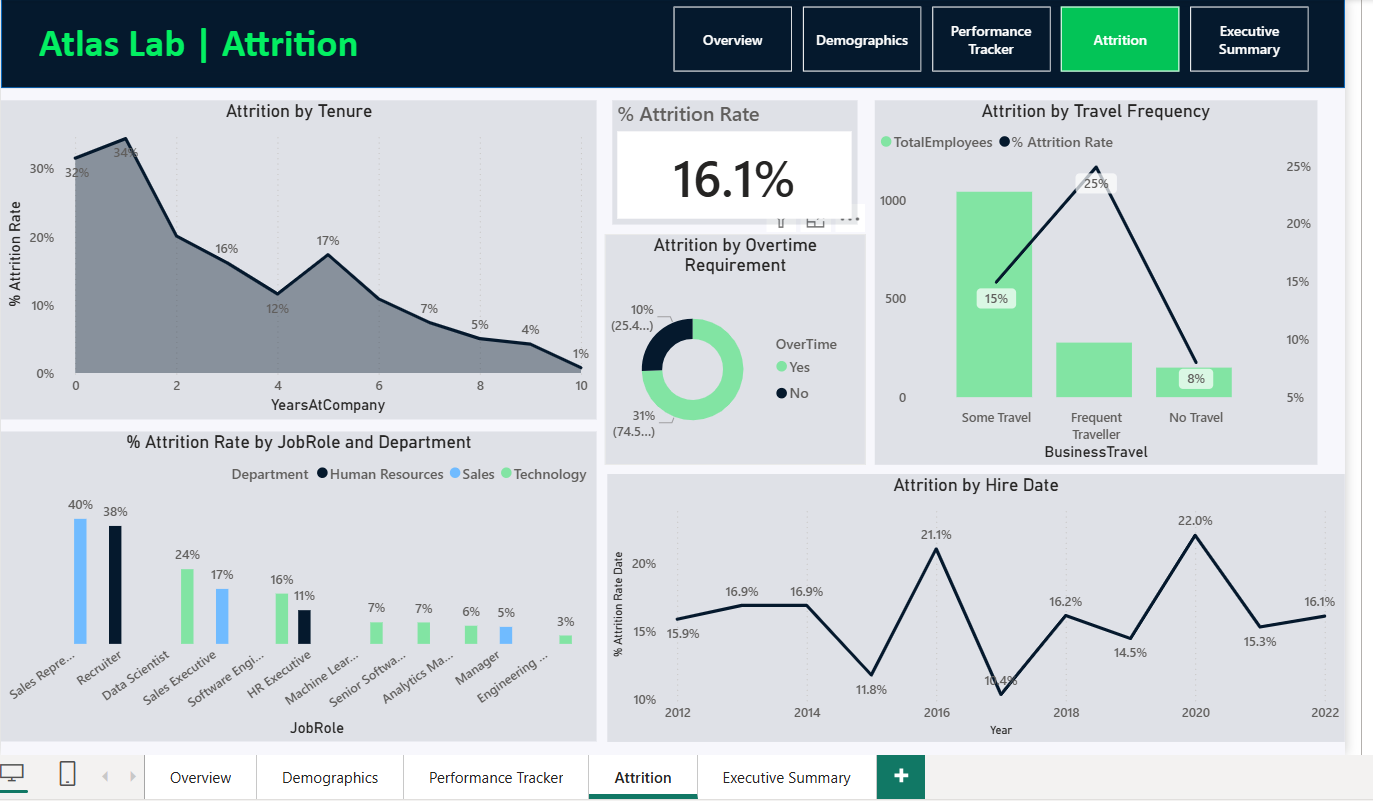

Layout of this report page (visuals, bound fields, positions):
{"tool":"powerbi","page":{"name":"Attrition","canvas":[1280,720],"ordinal":3},"visuals":[{"type":"clusteredColumnChart","fields":{"Category":["Dim_Employee.JobRole"],"Y":["_Measures.% Attrition Rate"],"Series":["Dim_Employee.Department"]},"box":[0,412.5,567.5,295],"z":0},{"type":"lineChart","title":"Attrition by Hire Date","fields":{"Category":["DimDate.Year"],"Y":["_Measures.% Attrition Rate Date"]},"box":[577.5,452.5,702.5,255],"z":1000},{"type":"lineClusteredColumnComboChart","title":"Attrition by Travel Frequency","fields":{"Category":["Dim_Employee.BusinessTravel"],"Y2":["_Measures.% Attrition Rate"],"Y":["_Measures.TotalEmployees"]},"box":[832.5,96.2,421.2,347.5],"z":2000},{"type":"donutChart","title":"Attrition by Overtime Requirement","fields":{"Y":["_Measures.% Attrition Rate"],"Category":["Dim_Employee.OverTime"]},"box":[575,223.8,248.8,220],"z":3000},{"type":"areaChart","title":"Attrition by Tenure","fields":{"Category":["Dim_Employee.YearsAtCompany"],"Y":["_Measures.% Attrition Rate"]},"box":[0,96.2,567.5,303.8],"z":4000},{"type":"shape","box":[0,0,1280,85],"z":5000},{"type":"textbox","box":[31.2,13.8,340,56.2],"z":6000},{"type":"cardVisual","title":"% Attrition Rate","fields":{"Data":["_Measures.% Attrition Rate"]},"box":[582.5,96.2,233.8,118.8],"z":7000},{"type":"pageNavigator","box":[640,7.5,606.2,62.5],"z":8000}]}

Visuals, with their boxes on the page's 1280x720 design canvas (x1, y1, x2, y2). These are canvas units, not pixel positions in the 1373x801 screenshot, which may show the page scaled, cropped or inside an application window:
clusteredColumnChart - Dim_Employee.JobRole x _Measures.% Attrition Rate: select_region(0, 412, 568, 708)
"Attrition by Hire Date" lineChart: select_region(578, 452, 1280, 708)
"Attrition by Travel Frequency" lineClusteredColumnComboChart: select_region(832, 96, 1254, 444)
"Attrition by Overtime Requirement" donutChart: select_region(575, 224, 824, 444)
"Attrition by Tenure" areaChart: select_region(0, 96, 568, 400)
shape: select_region(0, 0, 1280, 85)
textbox: select_region(31, 14, 371, 70)
"% Attrition Rate" cardVisual: select_region(582, 96, 816, 215)
pageNavigator: select_region(640, 8, 1246, 70)
